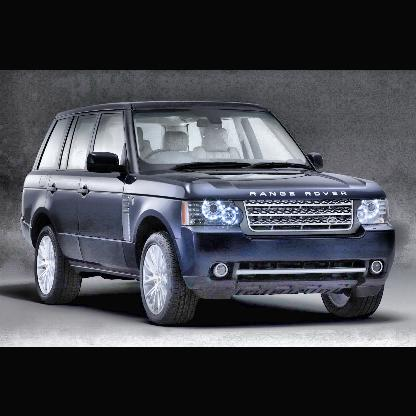Land Rover Range Rover SUV 2012: (20, 100, 395, 327)
